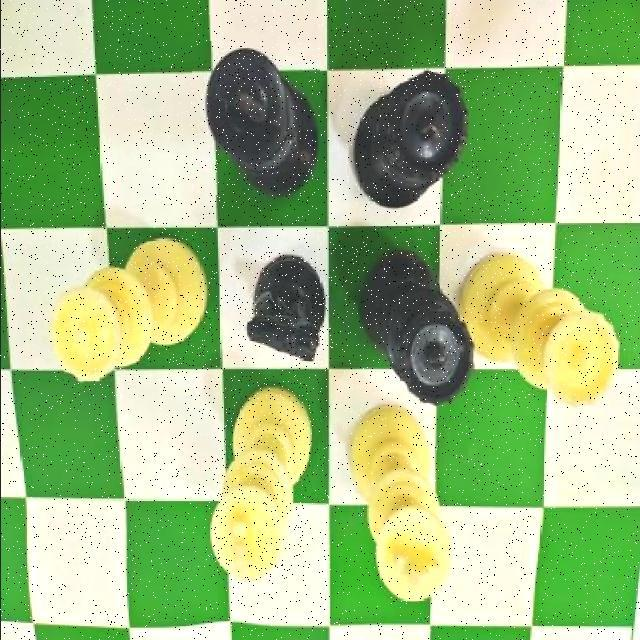black-king: (190, 41, 318, 196)
black-knight: (239, 248, 330, 360)
black-queen: (352, 53, 474, 210), (354, 250, 472, 404)
white-king: (345, 406, 458, 606), (204, 376, 312, 581)
white-queen: (44, 228, 210, 384), (460, 253, 622, 407)
